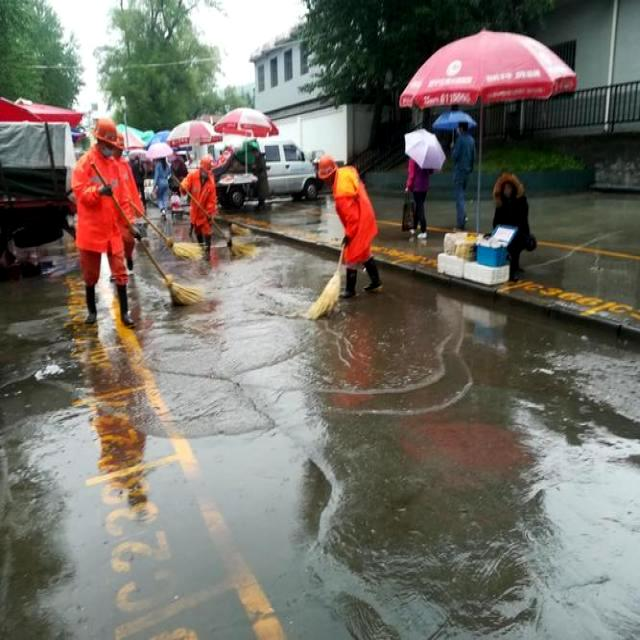civilian: (494, 174, 541, 277), (398, 153, 440, 250), (448, 126, 478, 231), (247, 152, 274, 220), (151, 157, 176, 222)
rescuer: (67, 115, 143, 329), (309, 148, 392, 308), (181, 151, 224, 259)
